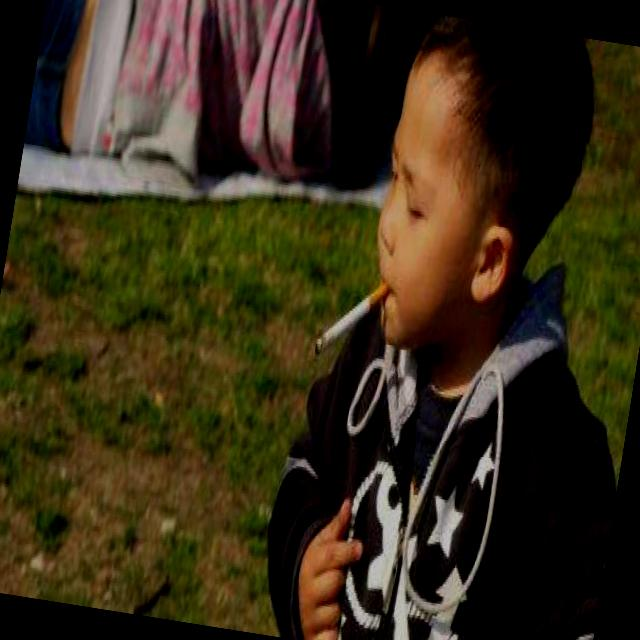smoke: (294, 248, 398, 386)
